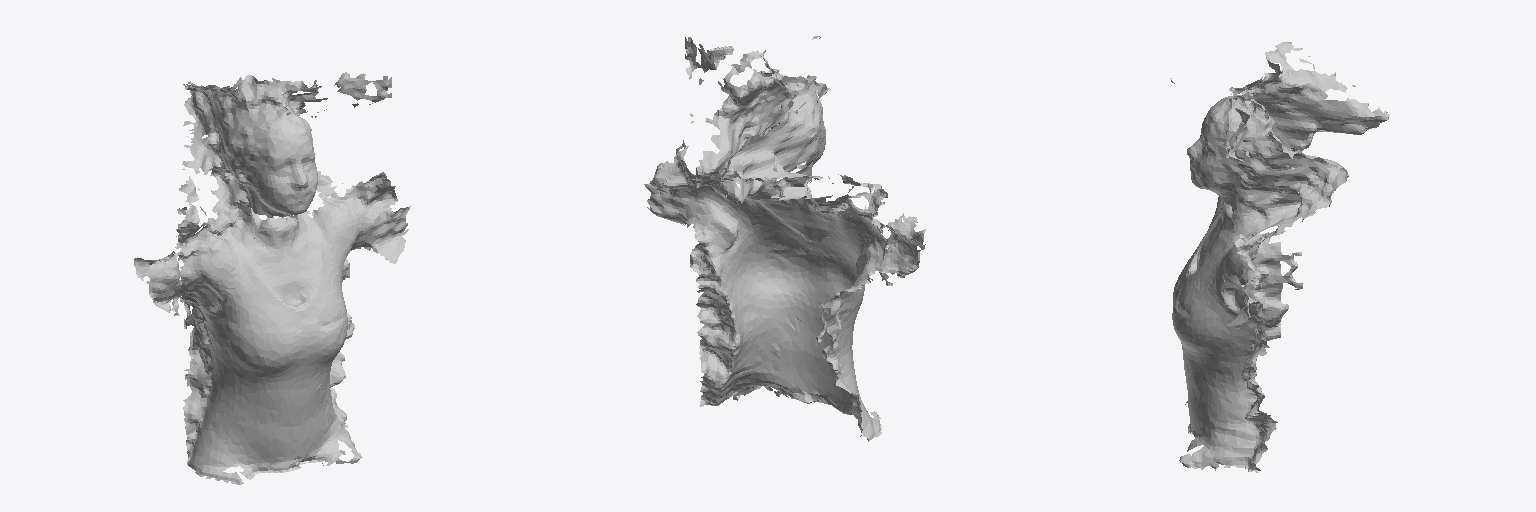
The model's file is femaleFront.obj.
3 renders of one model, left to right at view 1: azimuth 30°, elevation 25°; view 2: azimuth 150°, elevation 25°; view 3: azimuth 270°, elevation 25°, orthographic.
Size of the model in its own units: 0.6612 by 0.8354 by 0.4529.